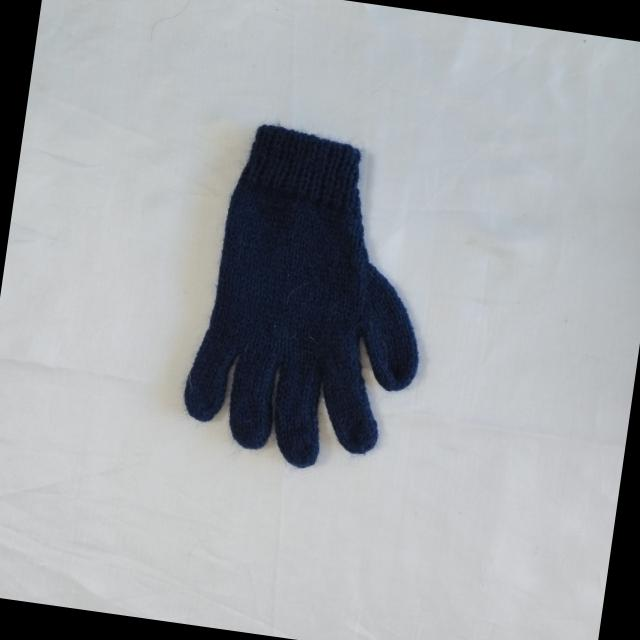Guante: (175, 115, 450, 482)
